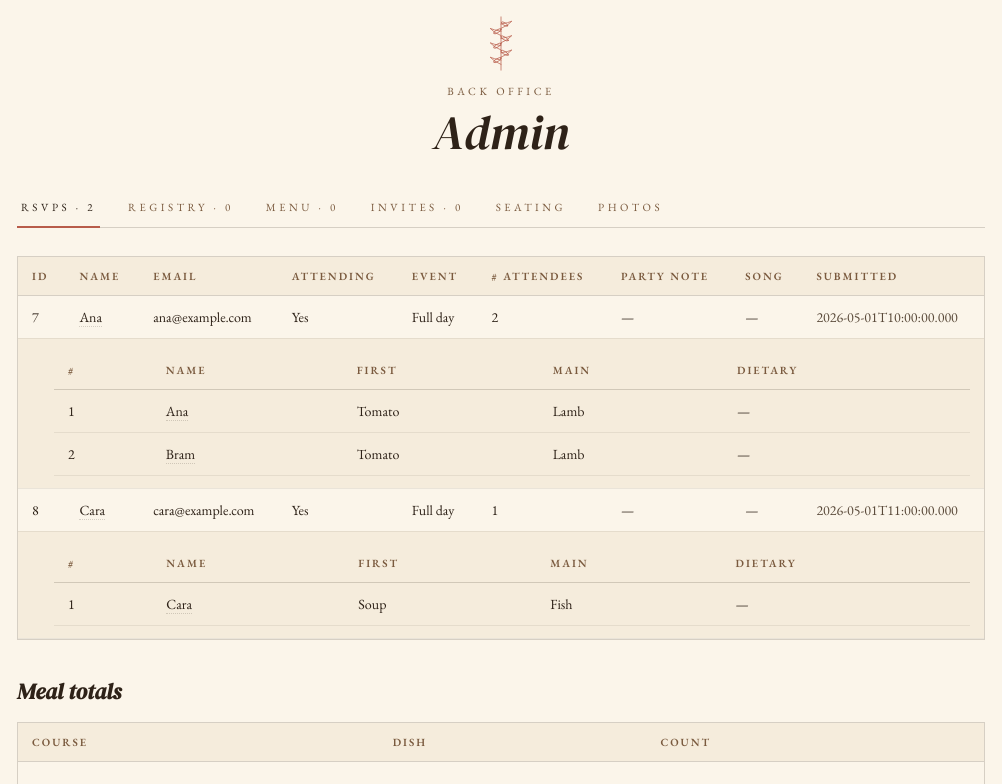
AdminDashboard — renaming guests › clicking a name cell opens an input holding the current name
This screenshot has width=1002, height=784.
Click the button with aria-label "Lead name: Ana".
click(91, 317)  # box [79,308,102,327]
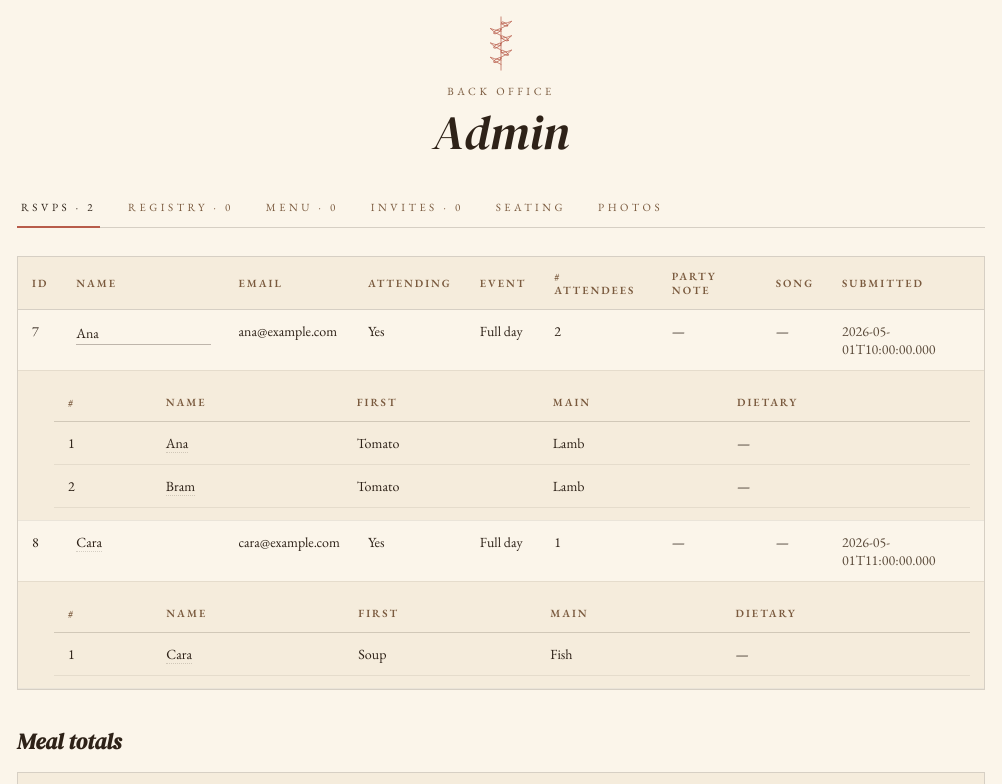
Check: the button with aria-label "Lead name: Cara" is shown, box [76,533,102,552]
Check: the field named "Lead name: Ana" holds "Ana", box [76,322,211,345]
